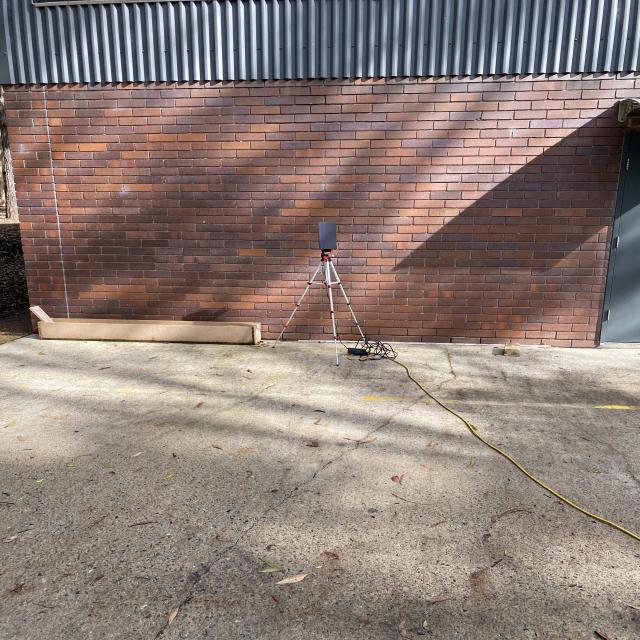matrix: (315, 219, 343, 251)
